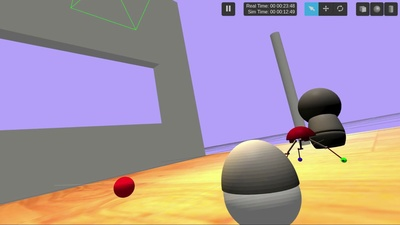mira_robot: (222, 140, 302, 225)
